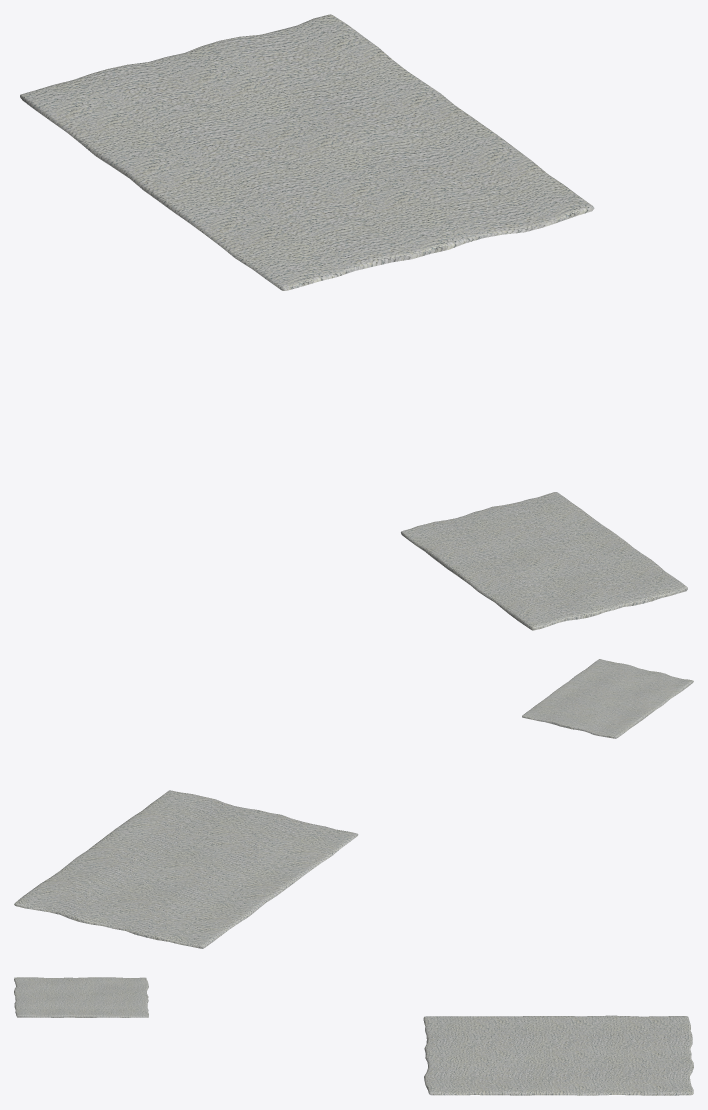
Rendered from Carpet.obj.
3 renders of one model, top to bottom at view 1: azimuth 30°, elevation 25°; view 2: azimuth 150°, elevation 25°; view 3: azimuth 270°, elevation 25°, orthographic. The views are drawn at different scales.
Parts seen in each view (by area): view 1: Carpet_7_SM_Carpet; view 2: Carpet_7_SM_Carpet; view 3: Carpet_7_SM_Carpet.
Boxes of the visible parts, x1=… form: Carpet_7_SM_Carpet: x1=20, y1=14, x2=687, y2=630; Carpet_7_SM_Carpet: x1=14, y1=659, x2=693, y2=948; Carpet_7_SM_Carpet: x1=14, y1=977, x2=693, y2=1095.
Size of the model in its own units: 2.74 by 0.0338 by 6.7.
